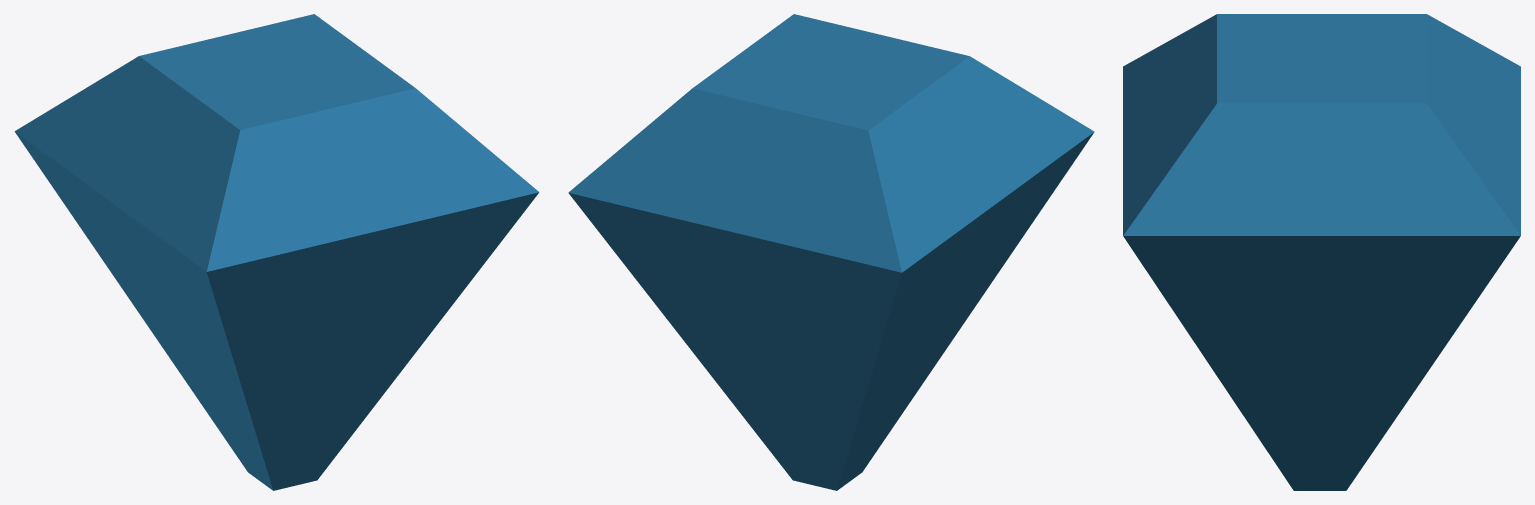
The model's file is diamond.obj.
The picture shows the model from 3 angles, left to right: view 1: azimuth 30°, elevation 25°; view 2: azimuth 150°, elevation 25°; view 3: azimuth 270°, elevation 25°; orthographic projection. The views are drawn at different scales.
Bounding box in the file's own units: 2.77 × 3.22 × 2.77.
